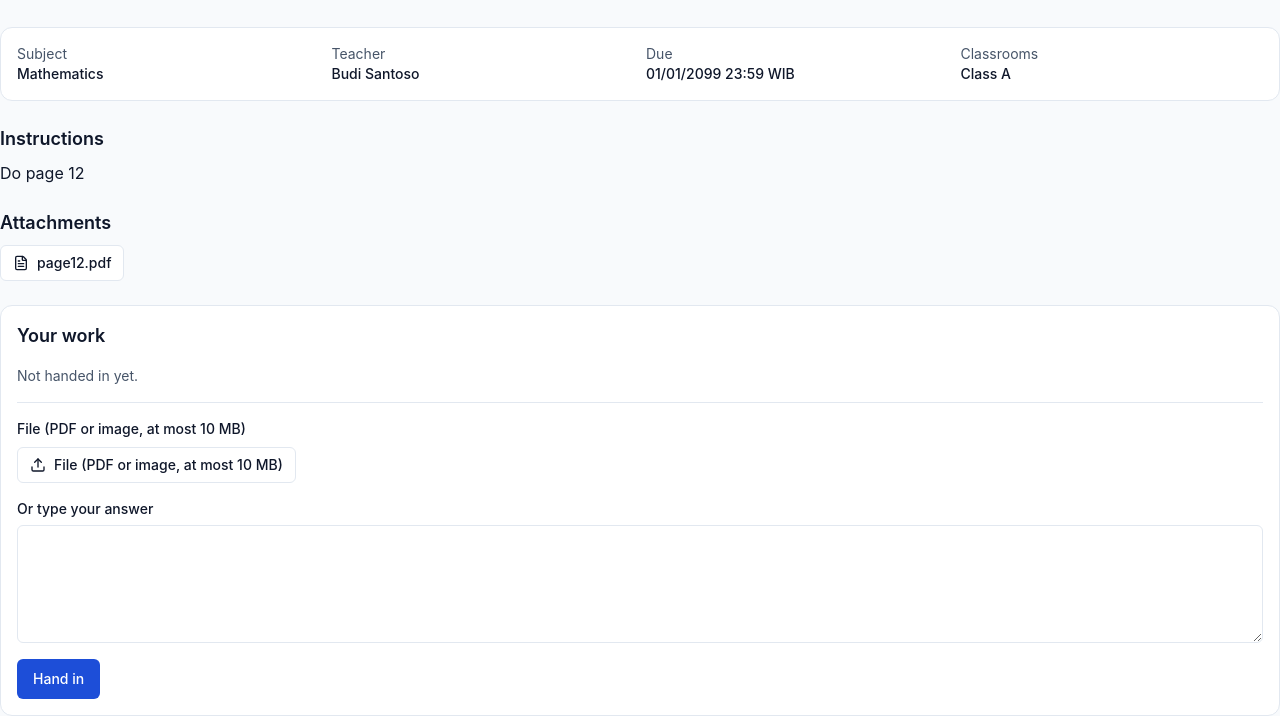
Test: AssignmentDetailPage › explains a refused hand-in
(page scrolled)
Type "x" into the text box labelled "Or type your answer" at (640, 584), box [17,525,1263,643]
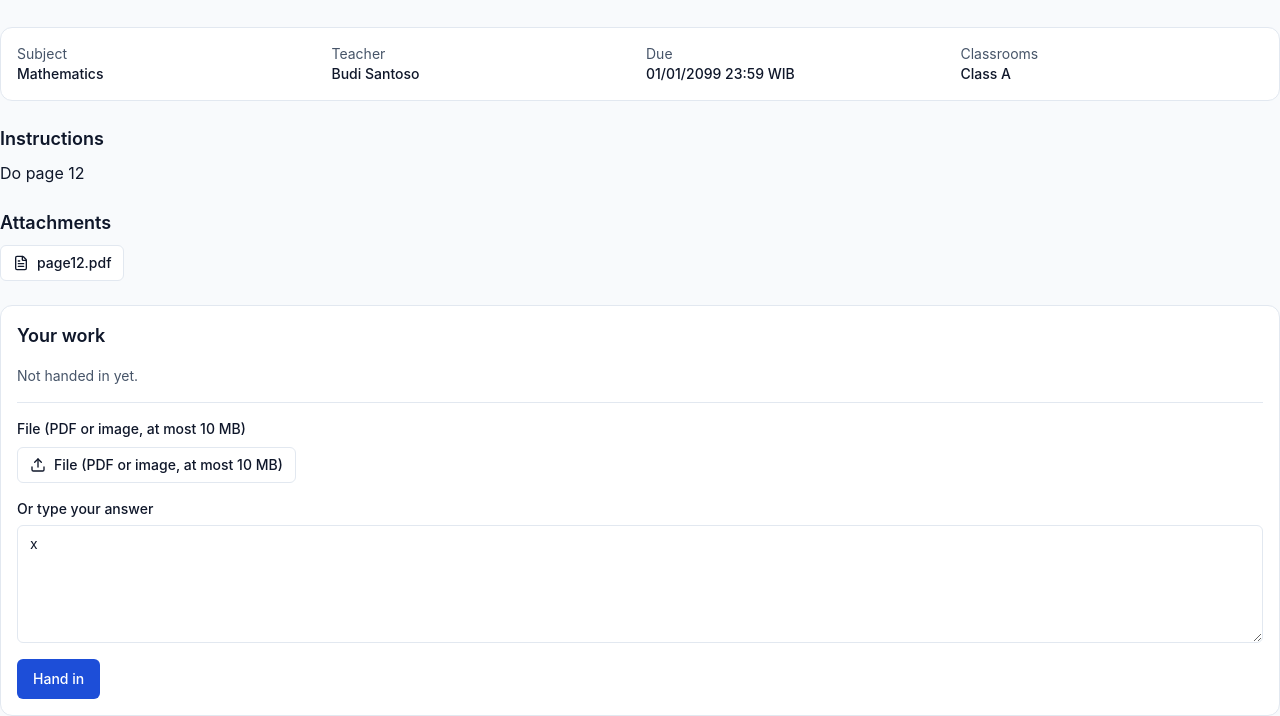
Click the button "Hand in" at (59, 679), box [17,659,100,699]
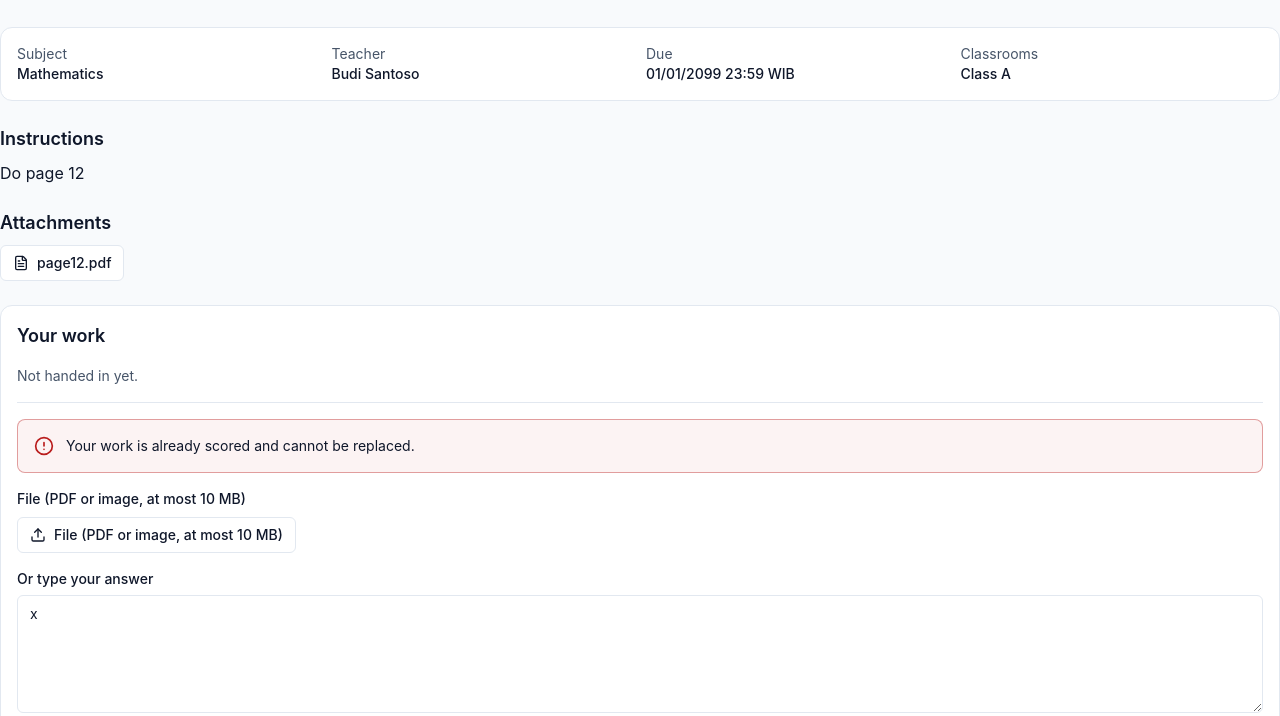
Expected: the text "Your work is already scored and cannot be replaced." is shown, [66,437,415,454]
